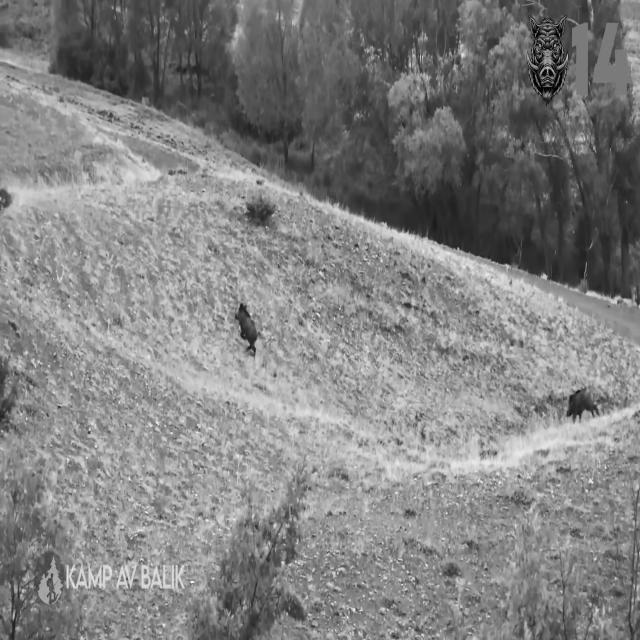boar: (528, 14, 569, 103), (235, 302, 258, 354), (566, 388, 598, 422)
